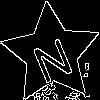N: (26, 29, 77, 85)
